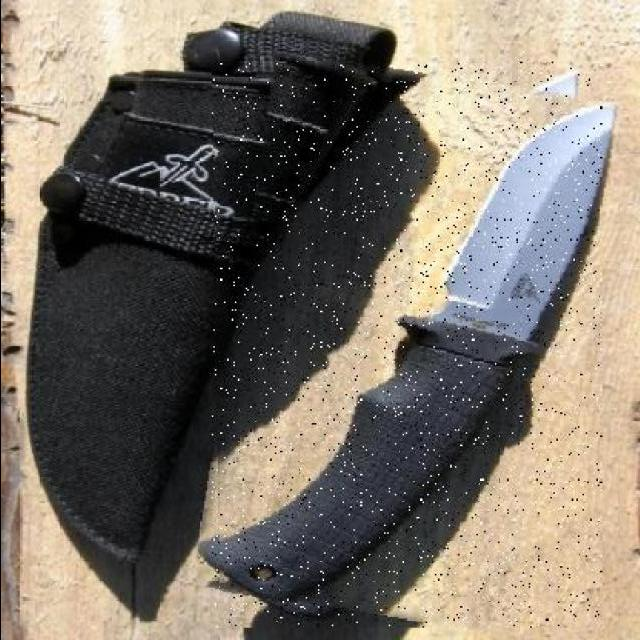Knife: (210, 60, 602, 628)
